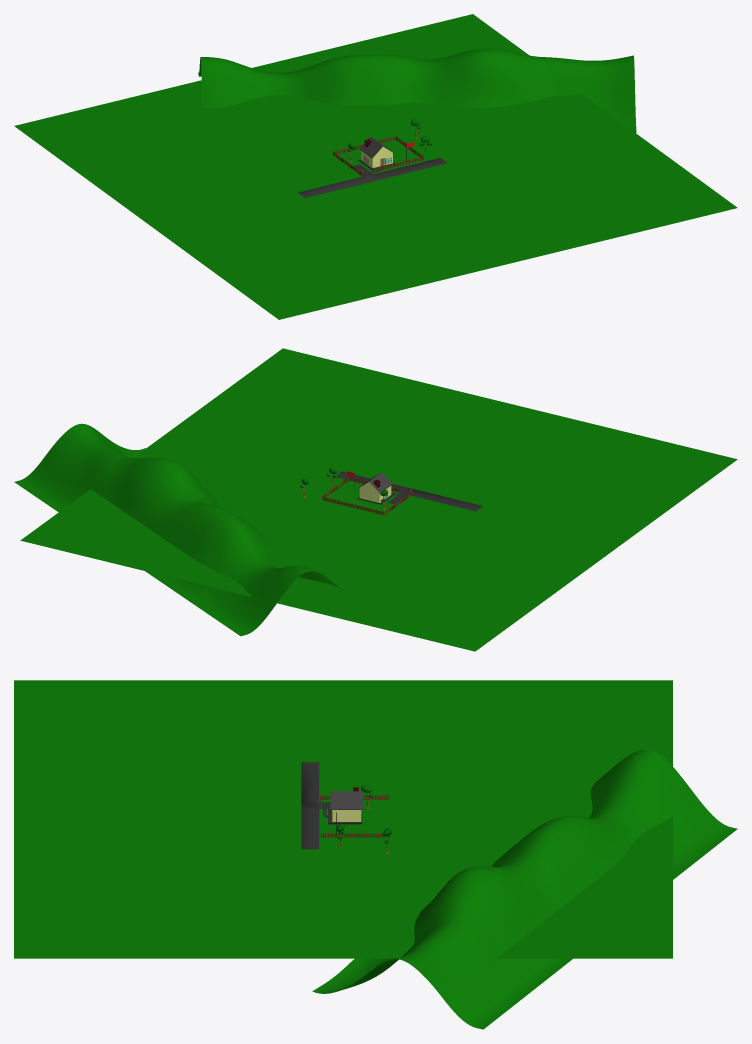
The model's file is house2.glb.
3 renders of one model, top to bottom at view 1: azimuth 30°, elevation 25°; view 2: azimuth 150°, elevation 25°; view 3: azimuth 270°, elevation 25°, orthographic. The views are drawn at different scales.
Visible parts, largest first — view 1: Plane, Plane.001, Plane.002; view 2: Plane, Plane.001, Plane.002; view 3: Plane, Plane.001, Plane.002, Cube.001.
Part boxes in pixels (x1,y1,x2,y2): Plane: [14, 14, 737, 319]; Plane.001: [198, 48, 636, 132]; Plane.002: [298, 158, 447, 197]; Plane: [20, 348, 737, 651]; Plane.001: [14, 423, 343, 636]; Plane.002: [336, 471, 482, 511]; Plane: [14, 680, 672, 958]; Plane.001: [312, 749, 737, 1029]; Plane.002: [301, 762, 330, 849]; Cube.001: [330, 791, 363, 809].
Bounding box in the file's own units: 53.19 × 5.5 × 49.54.
